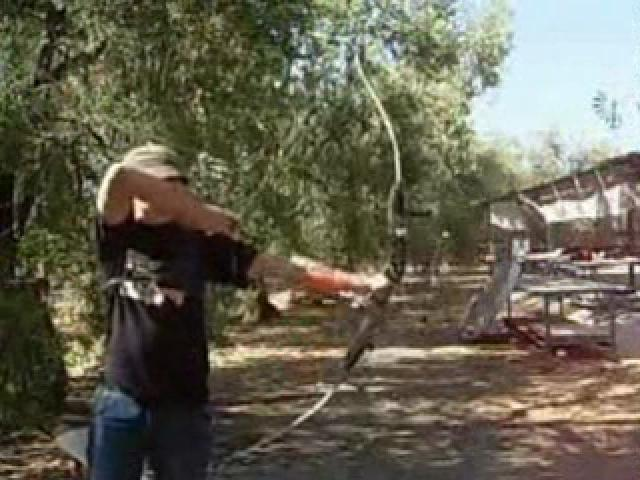I: (81, 139, 396, 480)
